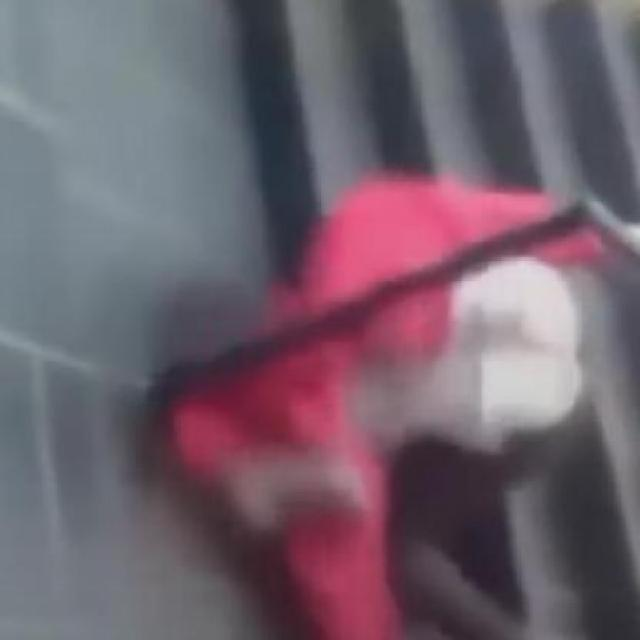fall: (154, 185, 638, 638)
